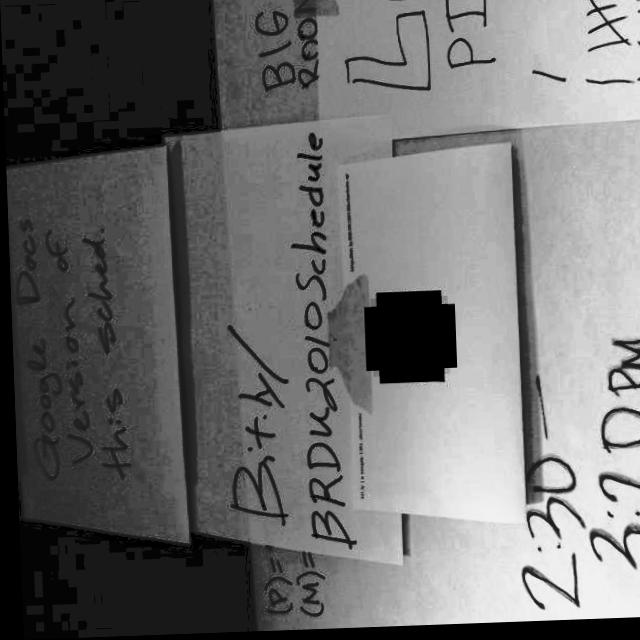qr_code: (368, 300, 447, 380)
